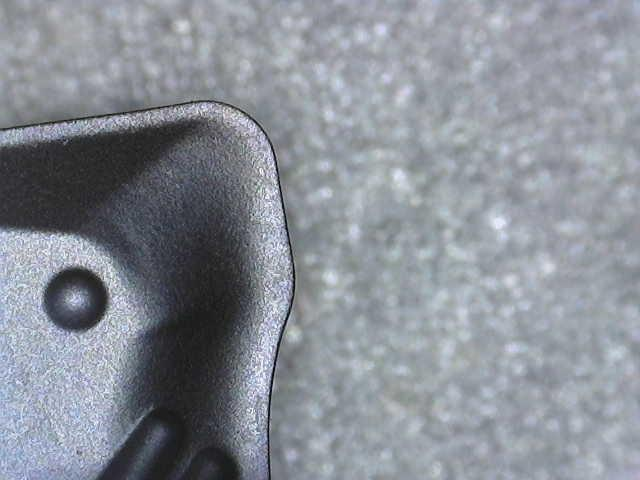normal: (0, 98, 300, 479)
